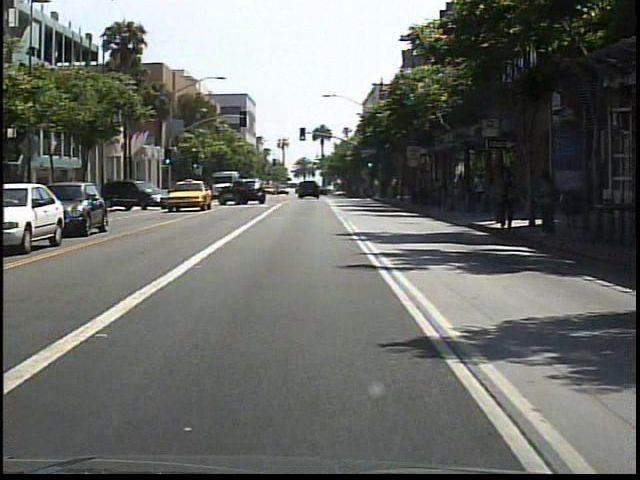person: (491, 162, 521, 236), (532, 168, 559, 240), (468, 168, 485, 210)
